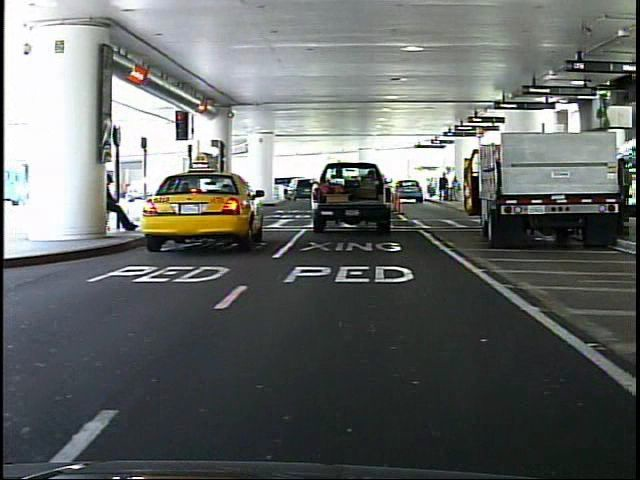person: (106, 170, 138, 235), (182, 167, 202, 217)
